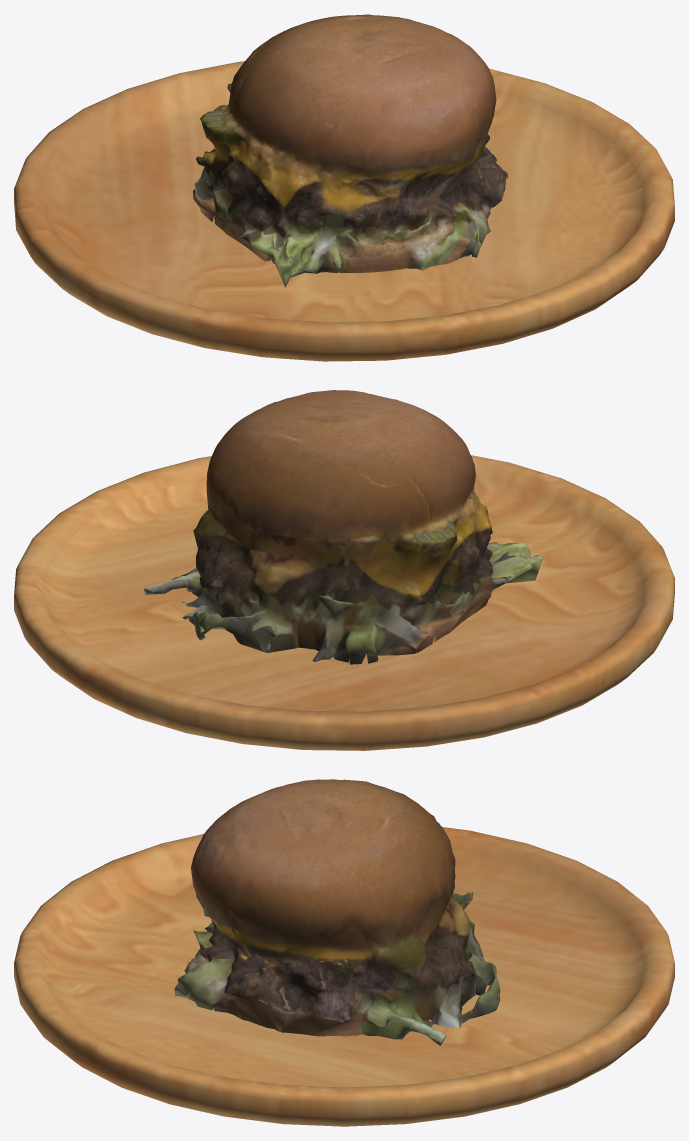
Rendered from tipoMequidenovo.glb.
3 views of the same model, one above another, from view 1: azimuth 30°, elevation 25°; view 2: azimuth 150°, elevation 25°; view 3: azimuth 270°, elevation 25° (orthographic).
Visible parts, largest first — view 1: Object_2, Mesh_0_Part_0.001; view 2: Object_2, Mesh_0_Part_0.001; view 3: Object_2, Mesh_0_Part_0.001.
Part boxes in pixels (x1=…): Object_2: x1=14, y1=61, x2=674, y2=361; Mesh_0_Part_0.001: x1=193, y1=14, x2=508, y2=287; Object_2: x1=14, y1=455, x2=674, y2=750; Mesh_0_Part_0.001: x1=144, y1=390, x2=542, y2=664; Object_2: x1=14, y1=827, x2=674, y2=1126; Mesh_0_Part_0.001: x1=174, y1=779, x2=500, y2=1045.
Size of the model in its own units: 33.83 by 10.99 by 33.83.
Materials: 2 (2 with a texture image).
